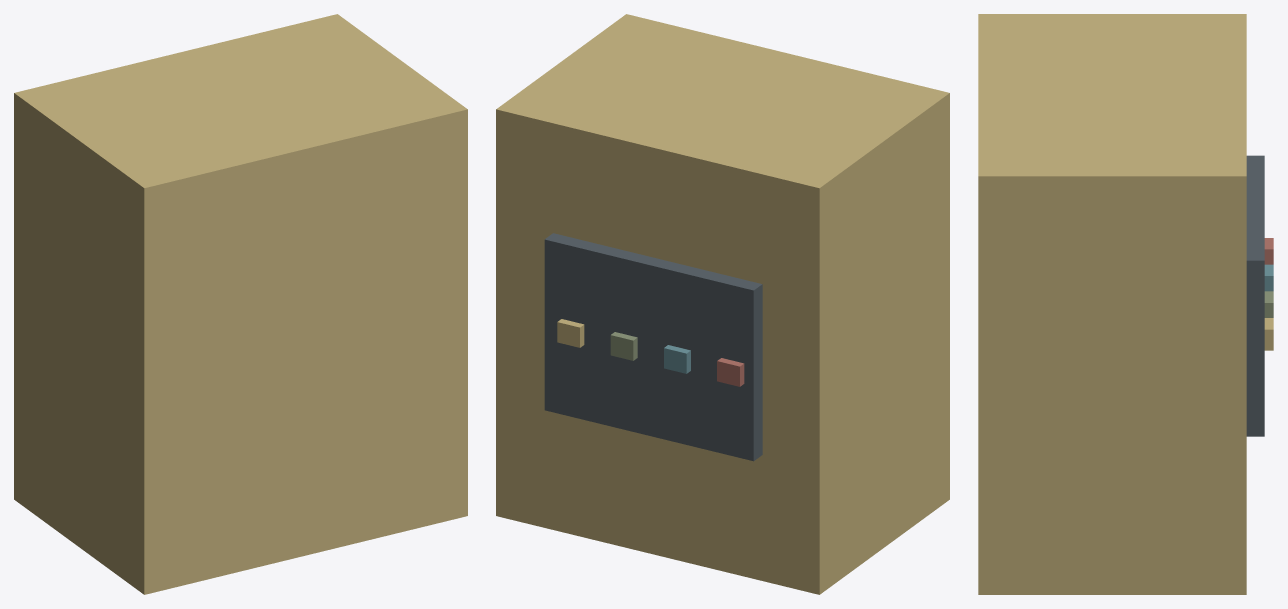
Rendered from iz2_power_switchboard.glb.
3 renders of one model, left to right at view 1: azimuth 30°, elevation 25°; view 2: azimuth 150°, elevation 25°; view 3: azimuth 270°, elevation 25°, orthographic. The views are drawn at different scales.
Visible parts, largest first — view 1: body; view 2: body; view 3: body.
Boxes of the visible parts, x1,y1,x2,y2 form: body: [14, 14, 467, 594]; body: [496, 14, 949, 594]; body: [978, 14, 1273, 594].
Size of the model in its own units: 0.8428 by 1.01 by 0.6468.
